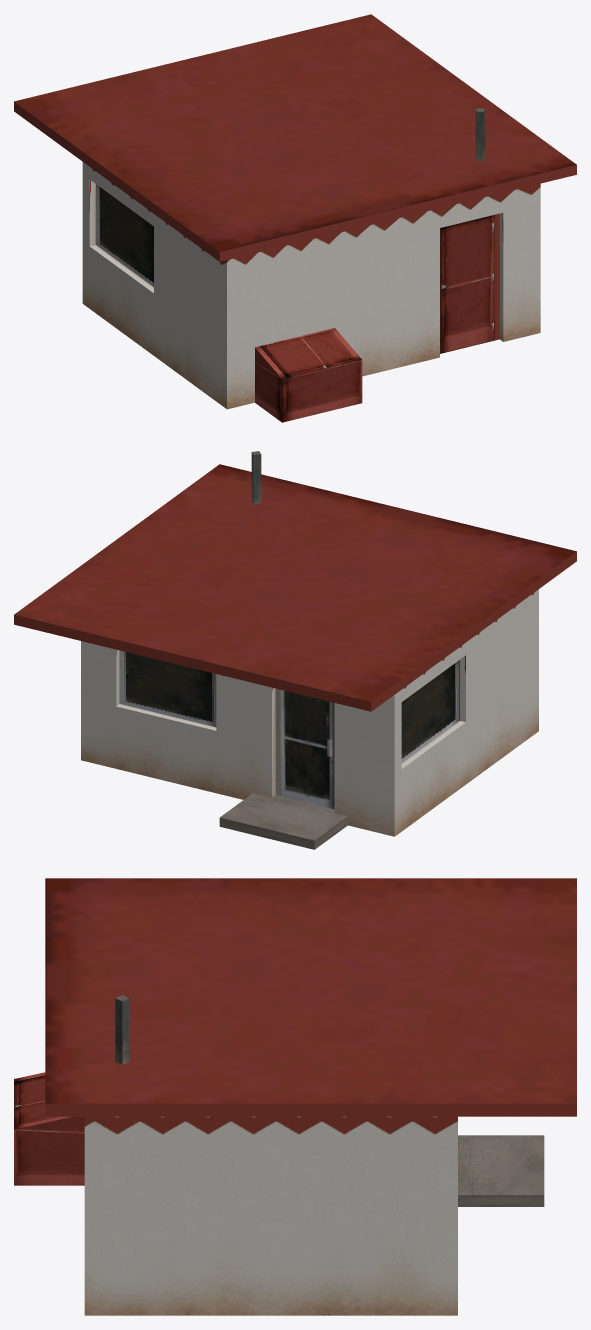
The model's file is des_tepeoff01.obj.
3 views of the same model, one above another, from view 1: azimuth 30°, elevation 25°; view 2: azimuth 150°, elevation 25°; view 3: azimuth 270°, elevation 25° (orthographic). The views are drawn at different scales.
Parts seen in each view (by area): view 1: des_tepeoff01; view 2: des_tepeoff01; view 3: des_tepeoff01.
Part boxes in pixels (box(x1,y1,x2,y2)): des_tepeoff01: box(14, 14, 576, 422); des_tepeoff01: box(14, 451, 576, 849); des_tepeoff01: box(14, 878, 576, 1315).
Bounding box in the file's own units: 5.65 × 3.37 × 5.97.
Materials: 6 (6 with a texture image).
